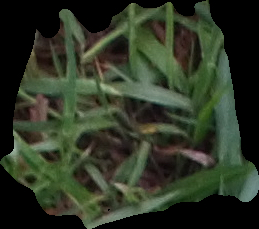grass: (1, 1, 258, 228)
